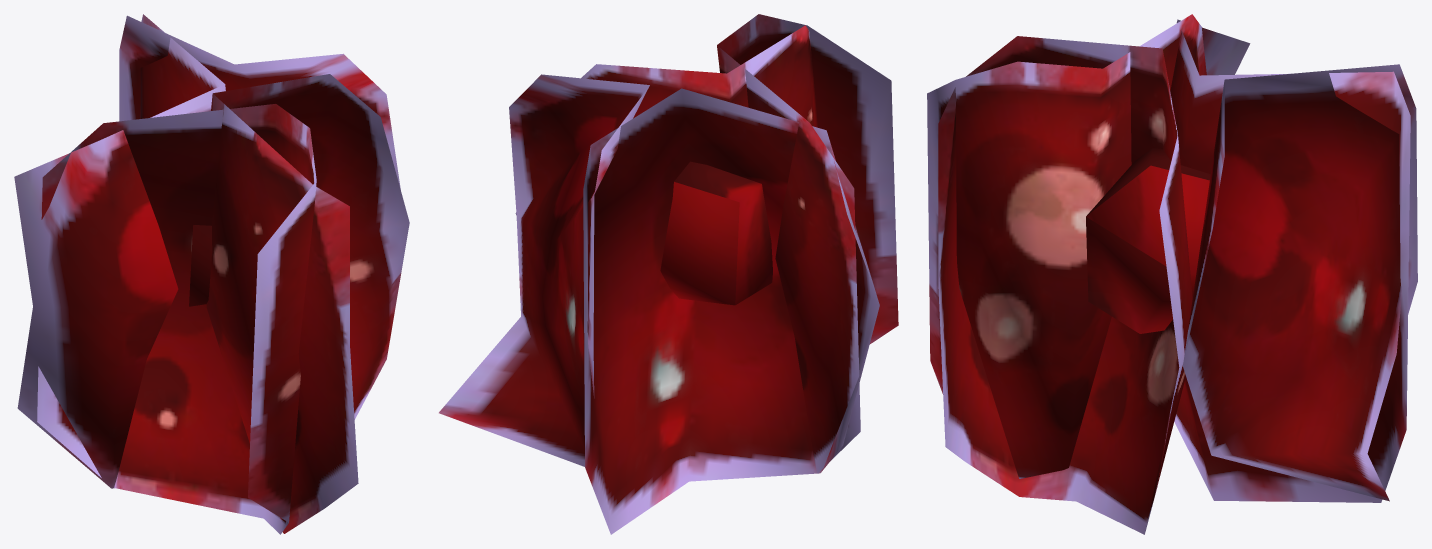
File: Zombie_Broken_Self_Head02_644b5735__Zombie_Broken_Purple_cee75a00_c1f257.obj
3 views of the same model, side by side, from view 1: azimuth 30°, elevation 25°; view 2: azimuth 150°, elevation 25°; view 3: azimuth 270°, elevation 25° (orthographic). The views are drawn at different scales.
Bounding box in the file's own units: 0.5704 × 0.5884 × 0.5827.
Materials: 1 (1 with a texture image).
